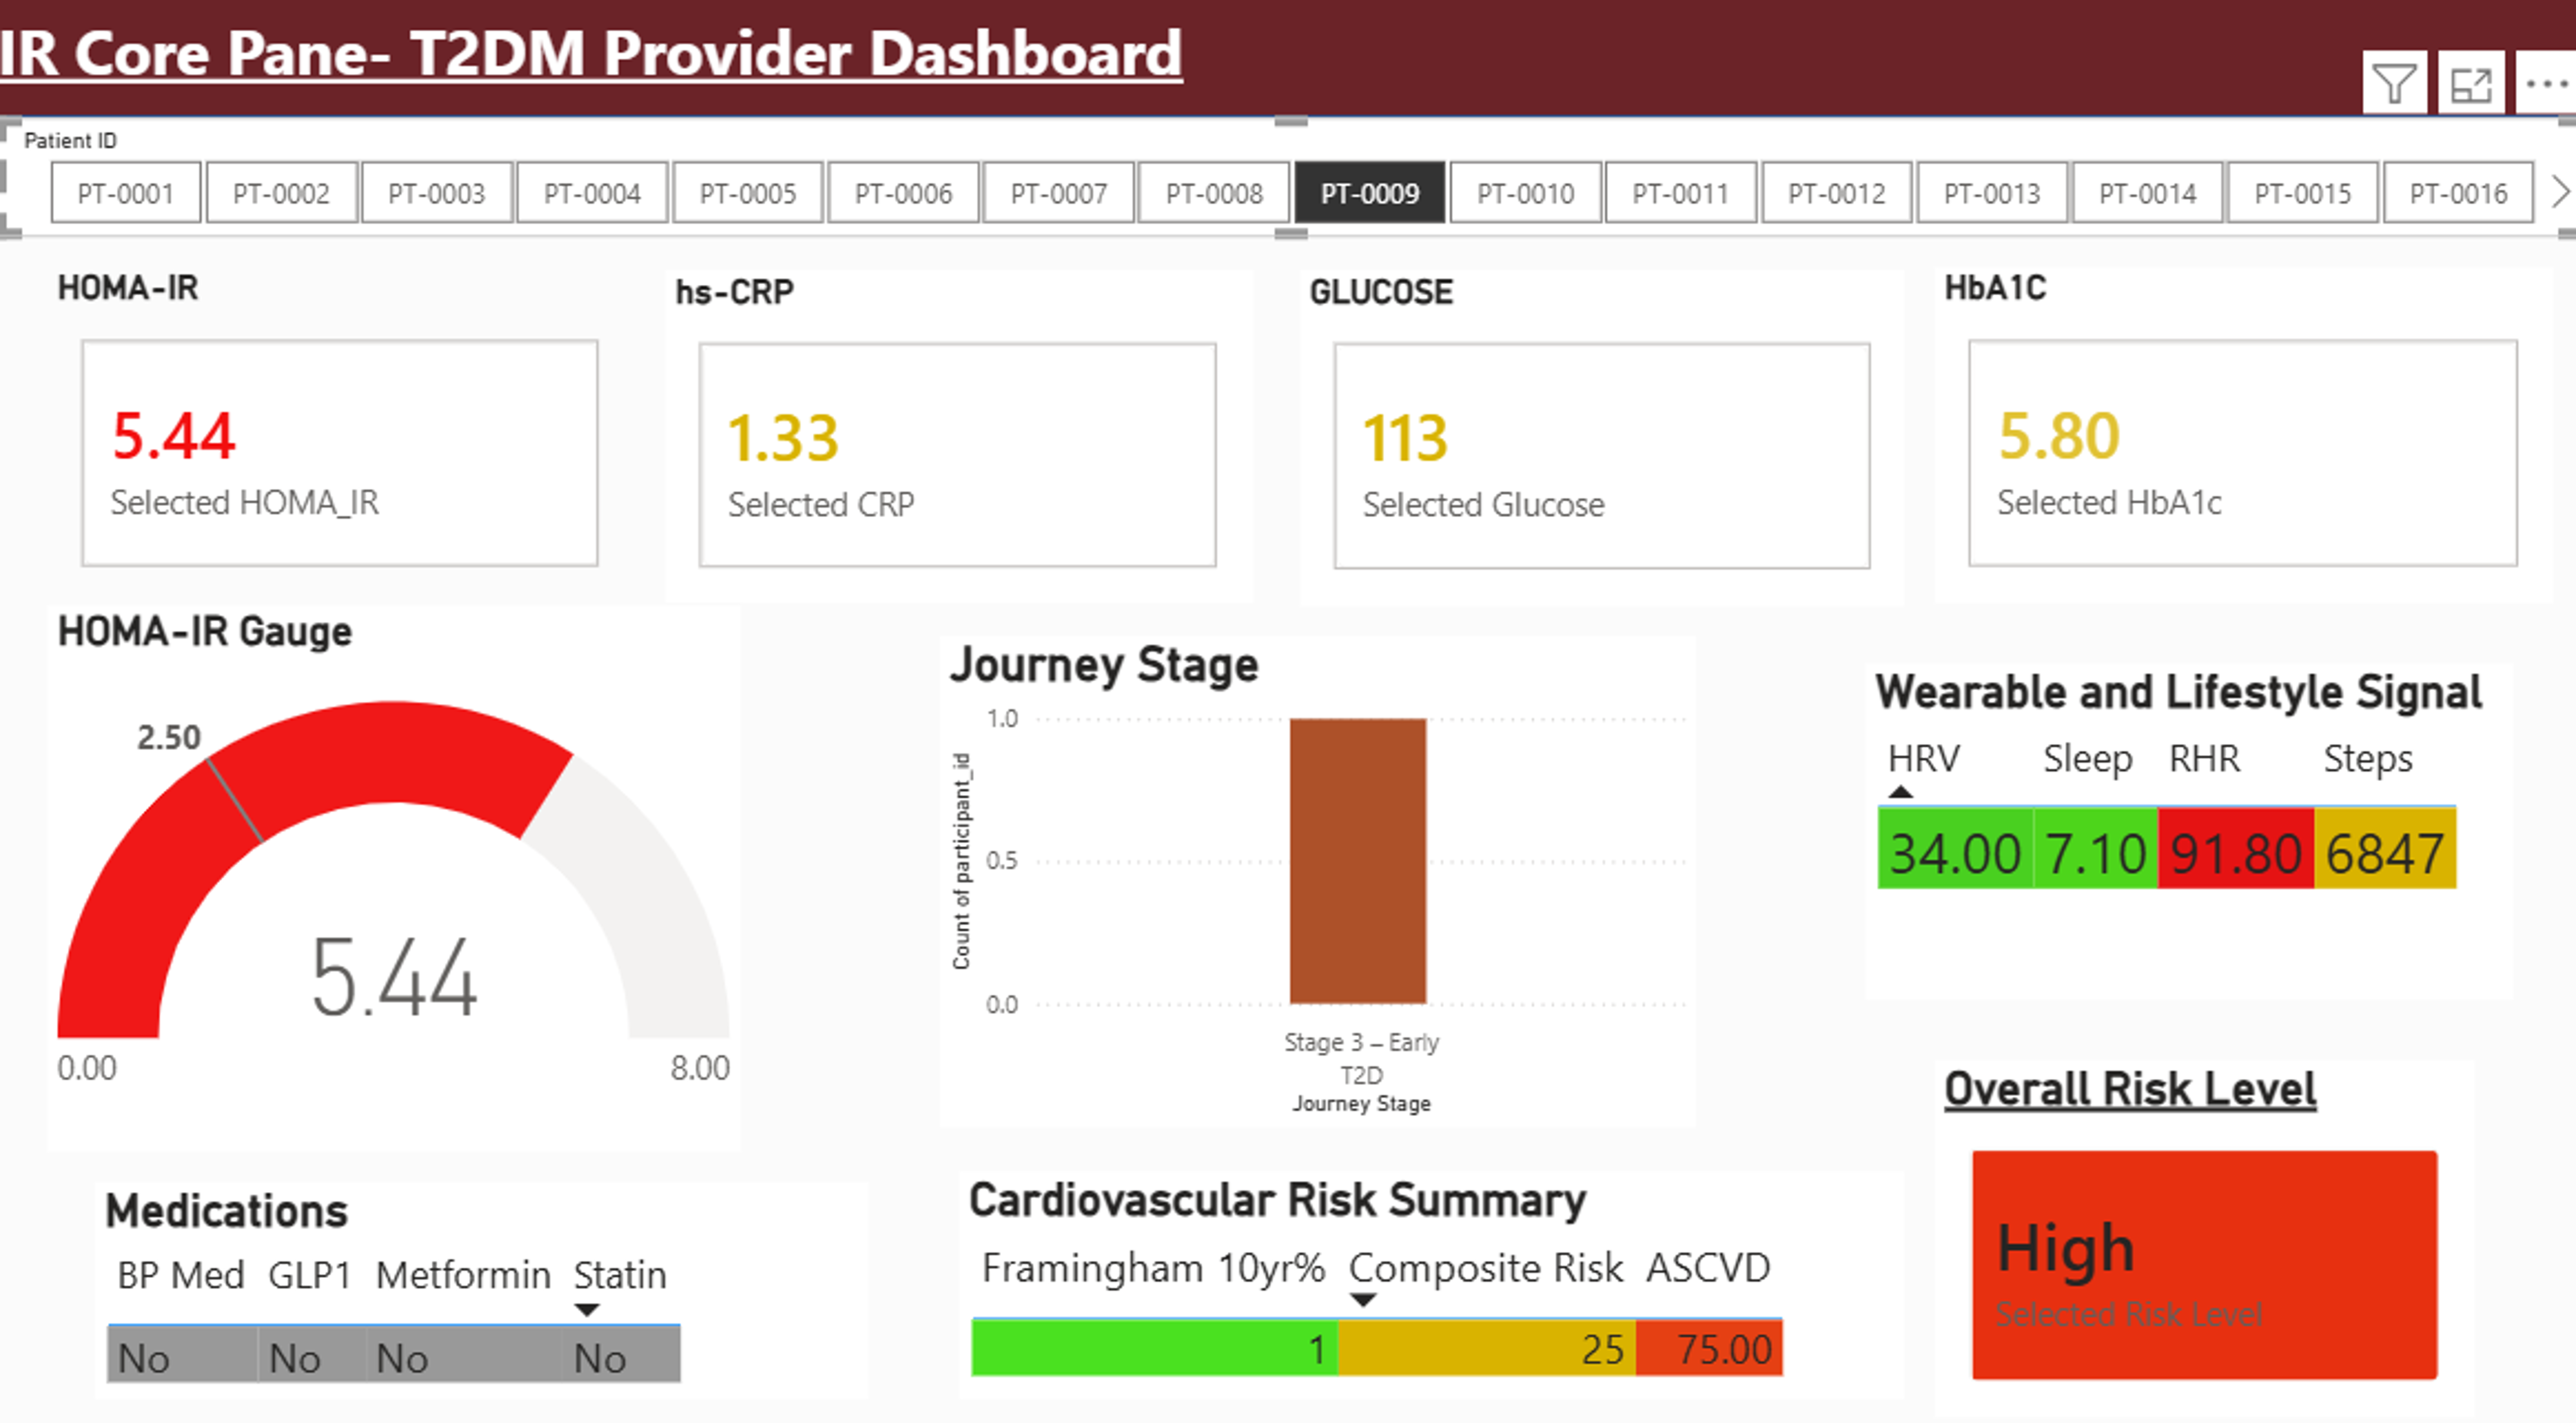

Layout of this report page (visuals, bound fields, positions):
{"tool":"powerbi","page":{"name":"IR CORE Panel","canvas":[1280,720],"ordinal":0},"visuals":[{"type":"slicer","fields":{"Values":["synthetic_t2d_2500pts.participant_id"]},"box":[0,67.2,1280.3,59],"z":0},{"type":"gauge","title":"HOMA-IR Gauge","fields":{"Y":["Sum(synthetic_t2d_2500pts.homa_ir)"]},"box":[24.7,308.7,343.1,270.3],"z":1000},{"type":"cardVisual","title":"HOMA-IR","fields":{"Data":["synthetic_t2d_2500pts.Selected HOMA_IR"]},"box":[24.7,141.3,290.9,166],"z":2000},{"type":"cardVisual","title":"hs-CRP","fields":{"Data":["synthetic_t2d_2500pts.Selected CRP"]},"box":[330.7,142.7,290.9,164.7],"z":3000},{"type":"cardVisual","title":"HbA1C","fields":{"Data":["synthetic_t2d_2500pts.Selected HbA1c"]},"box":[959.2,141.3,306,166],"z":4000},{"type":"cardVisual","title":"GLUCOSE","fields":{"Data":["synthetic_t2d_2500pts.Selected Glucose"]},"box":[644.9,142.7,299.1,166],"z":5000},{"type":"clusteredColumnChart","title":"Journey Stage","fields":{"Category":["synthetic_t2d_2500pts.Journey Stage"],"Y":["CountNonNull(synthetic_t2d_2500pts.participant_id)"]},"box":[466.6,323.8,374.6,242.9],"z":6000},{"type":"tableEx","title":"Wearable and Lifestyle Signal","fields":{"Values":["synthetic_t2d_2500pts.Selected HRV","synthetic_t2d_2500pts.Selected Sleep","synthetic_t2d_2500pts.Selected RHR","synthetic_t2d_2500pts.Selected Steps"]},"box":[944.2,334.8,321.1,166.1],"z":7000},{"type":"tableEx","title":"Medications","fields":{"Values":["synthetic_t2d_2500pts.Selected BP Med","synthetic_t2d_2500pts.Selected GLP1","synthetic_t2d_2500pts.Selected Metformin","synthetic_t2d_2500pts.Selected Statin"]},"box":[48,594.2,382.8,107],"z":8000},{"type":"tableEx","title":"Cardiovascular Risk Summary","fields":{"Values":["synthetic_t2d_2500pts.Selected Framingham","synthetic_t2d_2500pts.Selected Composite Risk","synthetic_t2d_2500pts.Selected ASCVD"]},"box":[476.2,588.7,467.9,112.5],"z":9000},{"type":"shape","box":[0,0,1280.3,67.2],"z":10000},{"type":"cardVisual","title":"Overall Risk Level","fields":{"Data":["synthetic_t2d_2500pts.Selected Risk Level"]},"box":[959.2,533.8,267.6,177],"z":11000}]}

Visuals, with their boxes in screenshot pixels (x1, y1, x2, y2), scaled from the page's 1280x720 canvas onto the 2576x1423 screenshot:
slicer - synthetic_t2d_2500pts.participant_id: 0,133,2576,250
"HOMA-IR Gauge" gauge: 50,610,740,1144
"HOMA-IR" cardVisual: 50,279,635,607
"hs-CRP" cardVisual: 666,282,1251,608
"HbA1C" cardVisual: 1930,279,2546,607
"GLUCOSE" cardVisual: 1298,282,1900,610
"Journey Stage" clusteredColumnChart: 939,640,1693,1120
"Wearable and Lifestyle Signal" tableEx: 1900,662,2546,990
"Medications" tableEx: 97,1174,867,1386
"Cardiovascular Risk Summary" tableEx: 958,1163,1900,1386
shape: 0,0,2576,133
"Overall Risk Level" cardVisual: 1930,1055,2469,1405
